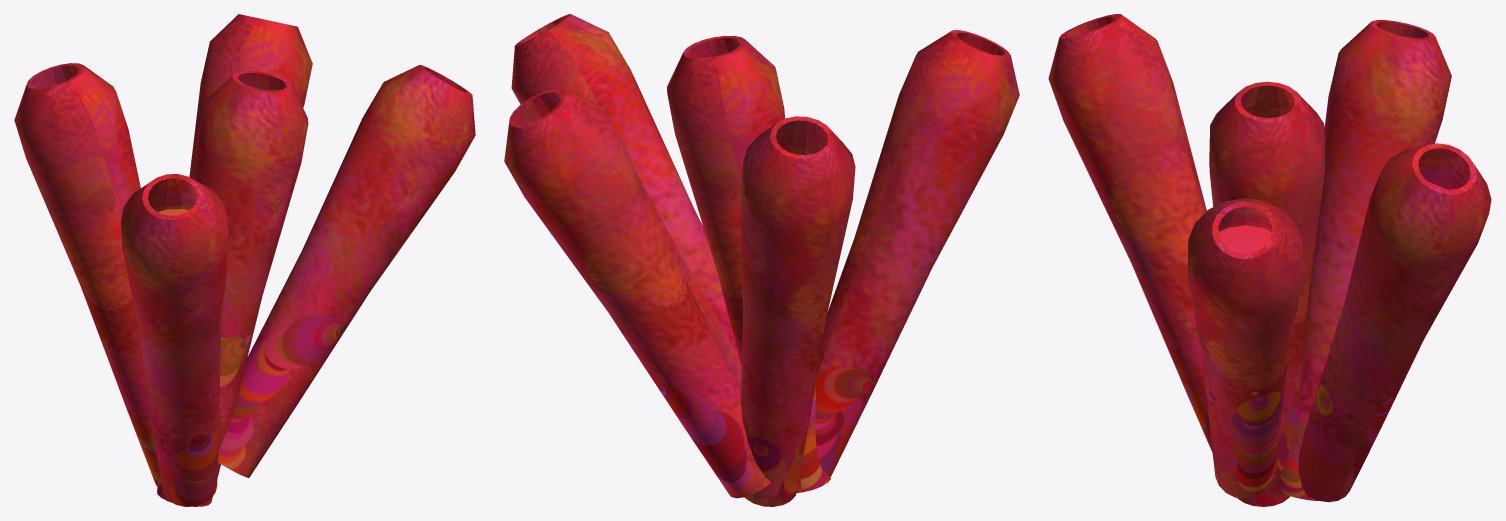
The model's file is Deco_Coral_Tube.FBX.
The picture shows the model from 3 angles, left to right: view 1: azimuth 30°, elevation 25°; view 2: azimuth 150°, elevation 25°; view 3: azimuth 270°, elevation 25°; orthographic projection. The views are drawn at different scales.
Visible parts, largest first — view 1: Cylinder001; view 2: Cylinder001; view 3: Cylinder001.
Part boxes in pixels (bbox=[...]): Cylinder001: bbox=[14, 14, 475, 506]; Cylinder001: bbox=[504, 14, 1019, 506]; Cylinder001: bbox=[1048, 14, 1491, 506].
Size of the model in its own units: 89.89 by 86.23 by 78.39.
